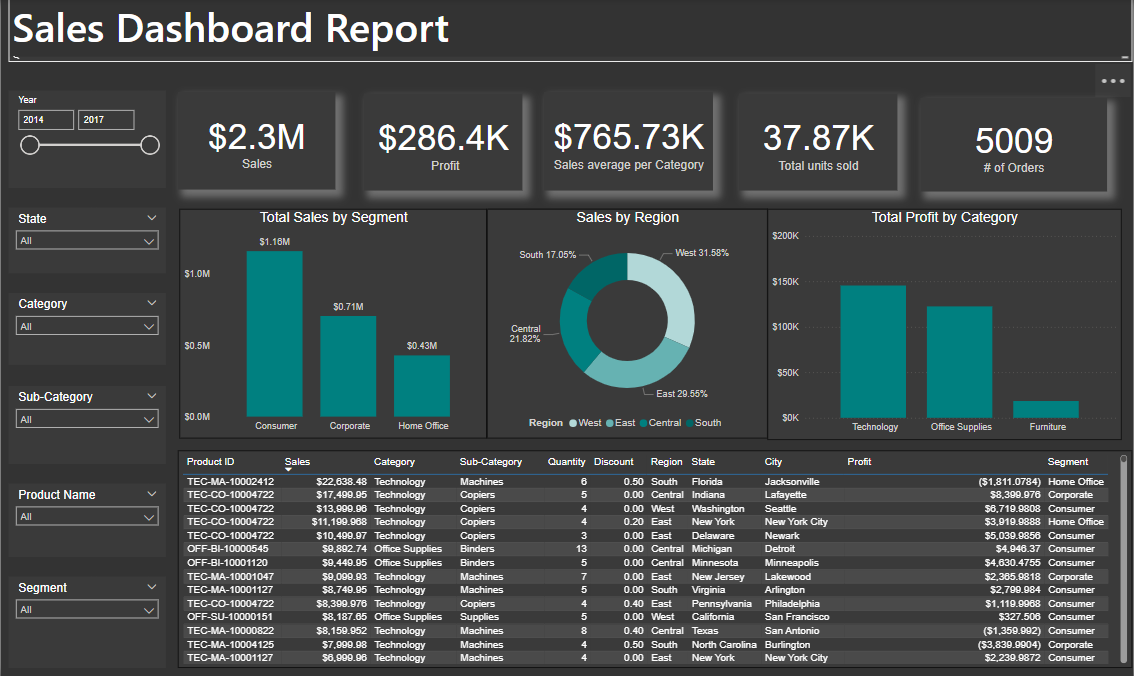

The page's visual inventory and layout, read from the dashboard file:
{"tool":"powerbi","page":{"name":"Dashboard","canvas":[1500,900],"ordinal":0},"visuals":[{"type":"textbox","title":"Sophie''s Dashboard","box":[9.9,0,1489.2,83.5],"z":0},{"type":"card","fields":{"Values":["Orders.Sales"]},"box":[234.6,123.3,208.8,129.2],"z":1000},{"type":"slicer","fields":{"Values":["Orders.State"]},"box":[9.9,276.8,208.8,87.5],"z":2000},{"type":"slicer","fields":{"Values":["Orders.Order Date.Variation.Date Hierarchy.Year"]},"box":[9.9,121.3,208.8,129.2],"z":3000},{"type":"slicer","fields":{"Values":["Orders.Category"]},"box":[9.9,390.5,208.8,95.4],"z":4000},{"type":"slicer","fields":{"Values":["Orders.Sub-Category"]},"box":[9.9,512.2,208.8,103.4],"z":5000},{"type":"slicer","fields":{"Values":["Orders.Product Name"]},"box":[9.9,641.8,208.8,97.4],"z":6000},{"type":"slicer","fields":{"Values":["Orders.Segment"]},"box":[9.9,765.5,208.8,121.3],"z":7000},{"type":"card","fields":{"Values":["Orders.Profit"]},"box":[480.8,126,210.1,128.4],"z":8000},{"type":"card","fields":{"Values":["Orders.Quantity"]},"box":[978,126,210.1,128.4],"z":9000},{"type":"donutChart","fields":{"Category":["Orders.Region"],"Y":["Orders.Sales"]},"box":[644.2,278.4,371.8,304.2],"z":10000},{"type":"clusteredColumnChart","fields":{"Category":["Orders.Segment"],"Y":["Orders.Sales"]},"box":[236.6,278.4,407.6,304.2],"z":11000},{"type":"clusteredColumnChart","fields":{"Category":["Orders.Category"],"Y":["Orders.Profit"]},"box":[1015.3,277.8,469.1,305.8],"z":12000},{"type":"tableEx","fields":{"Values":["Orders.Product ID","Orders.Sales","Orders.Category","Orders.Sub-Category","Orders.Quantity","Orders.Discount","Orders.Region","Orders.State","Orders.City","Orders.Profit","Orders.Segment"]},"box":[234.6,598.5,1264.5,288.3],"z":13000},{"type":"card","fields":{"Values":["Orders.Sales average per Category"]},"box":[718.9,123.7,224.1,130.7],"z":14000},{"type":"card","fields":{"Values":["Orders.Order ID"]},"box":[1218.4,130.7,247.4,123.7],"z":15000}]}

Visuals, with their boxes in screenshot pixels (x1, y1, x2, y2), scaled from the page's 1500x900 canvas onto the 1134x676 screenshot:
"Sophie''s Dashboard" textbox: box=[7, 0, 1133, 63]
card - Orders.Sales: box=[177, 93, 335, 190]
slicer - Orders.State: box=[7, 208, 165, 274]
slicer - Orders.Order Date.Variation.Date Hierarchy.Year: box=[7, 91, 165, 188]
slicer - Orders.Category: box=[7, 293, 165, 365]
slicer - Orders.Sub-Category: box=[7, 385, 165, 462]
slicer - Orders.Product Name: box=[7, 482, 165, 555]
slicer - Orders.Segment: box=[7, 575, 165, 666]
card - Orders.Profit: box=[363, 95, 522, 191]
card - Orders.Quantity: box=[739, 95, 898, 191]
donutChart - Orders.Region x Orders.Sales: box=[487, 209, 768, 438]
clusteredColumnChart - Orders.Segment x Orders.Sales: box=[179, 209, 487, 438]
clusteredColumnChart - Orders.Category x Orders.Profit: box=[768, 209, 1122, 438]
tableEx - Orders.Product ID x Orders.Sales: box=[177, 450, 1133, 666]
card - Orders.Sales average per Category: box=[543, 93, 713, 191]
card - Orders.Order ID: box=[921, 98, 1108, 191]
